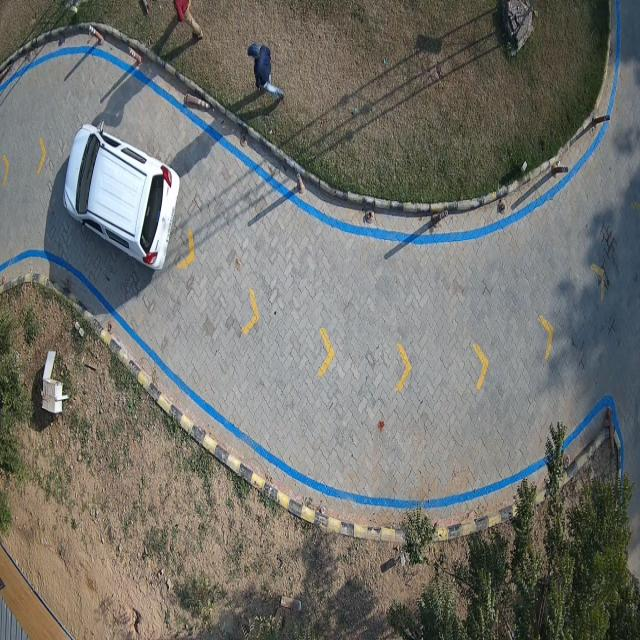car: (60, 121, 179, 273)
